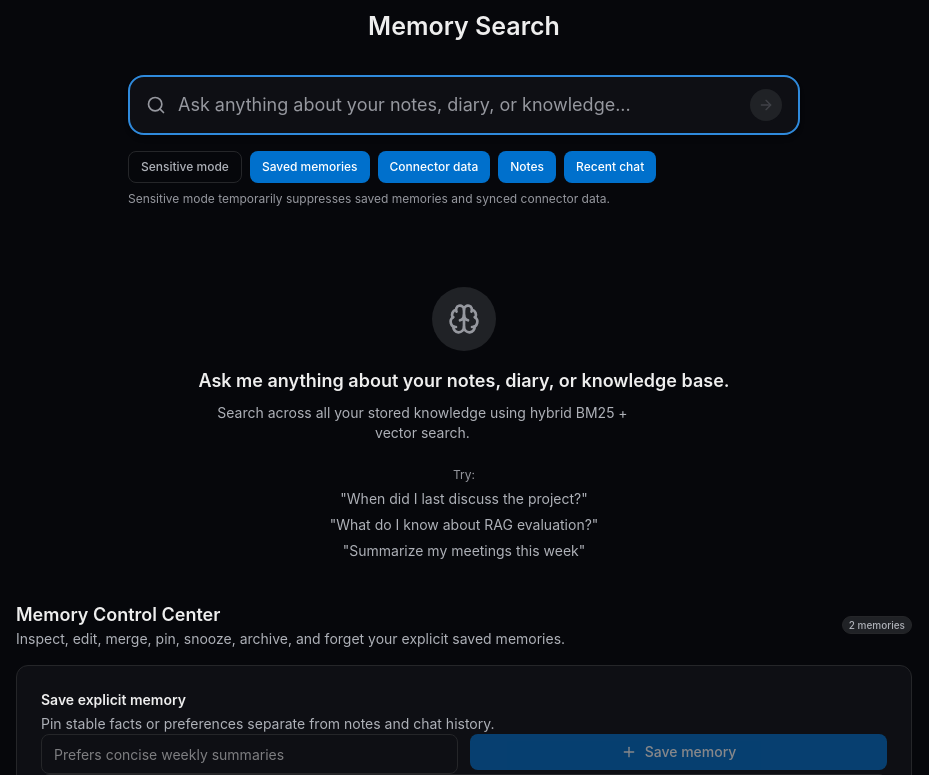
Test: MemoryPage › shows the no-results state when search returns no sources
The image size is (929, 775).
Type "Unknown topic" into the field with placeholder "Ask anything about your notes, diary, or knowledge...".
click(458, 105); type("Unknown topic")  # box top-left (178, 91), bottom-right (738, 119)
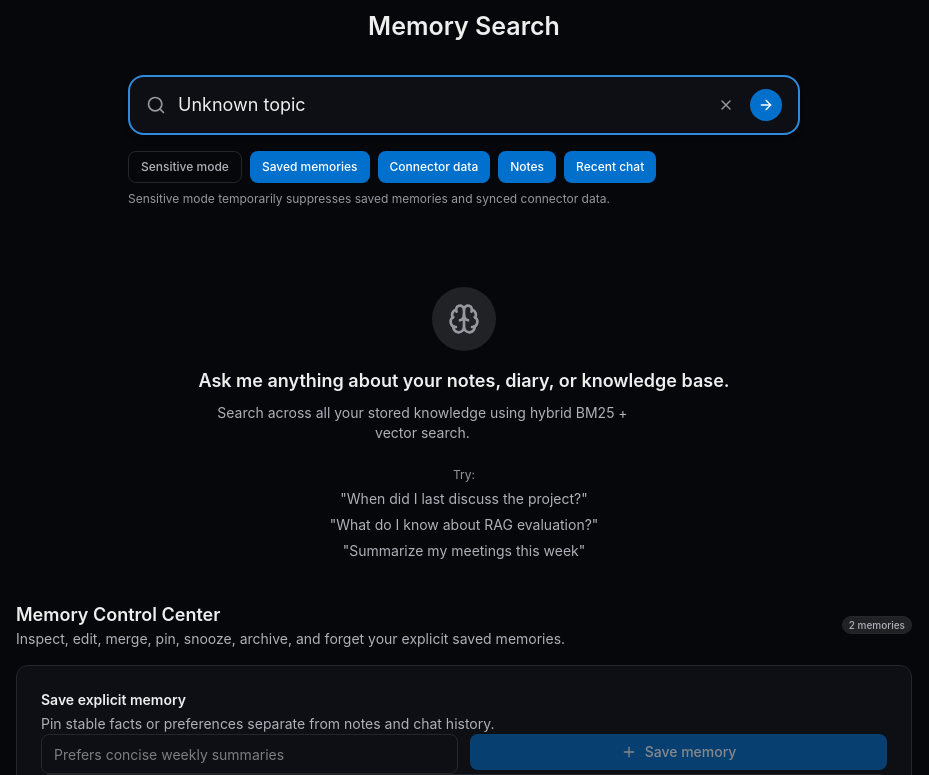
Click the button named "Search".
click(766, 105)  # box top-left (750, 89), bottom-right (782, 121)
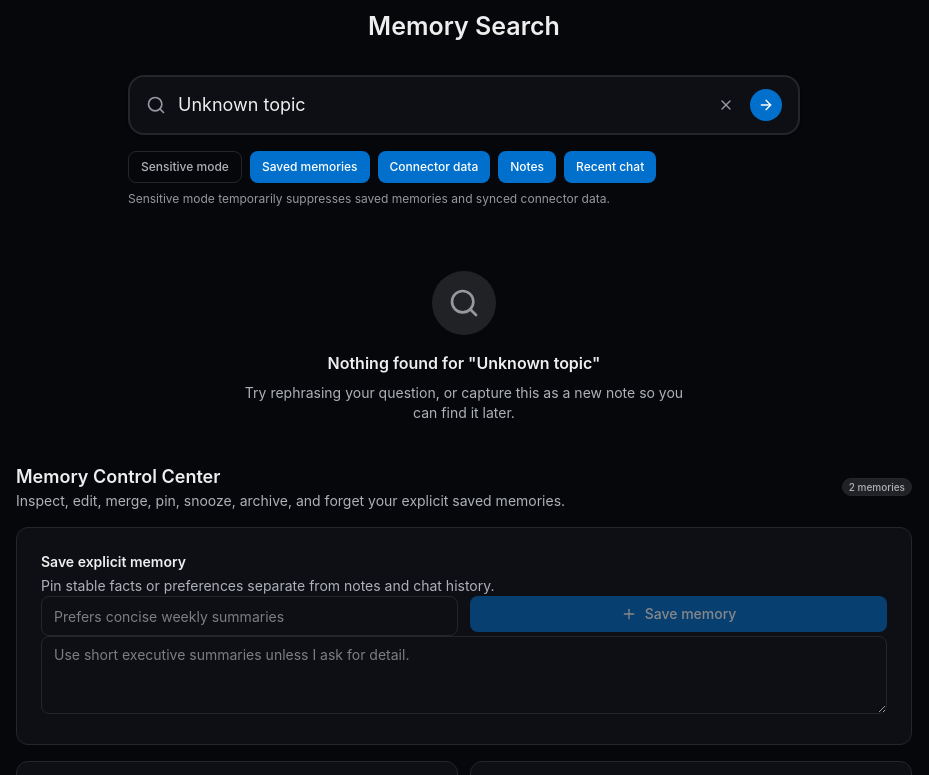
Check: the heading "Nothing found for \"Unknown topic\"" is shown, box top-left (328, 353), bottom-right (600, 373)
